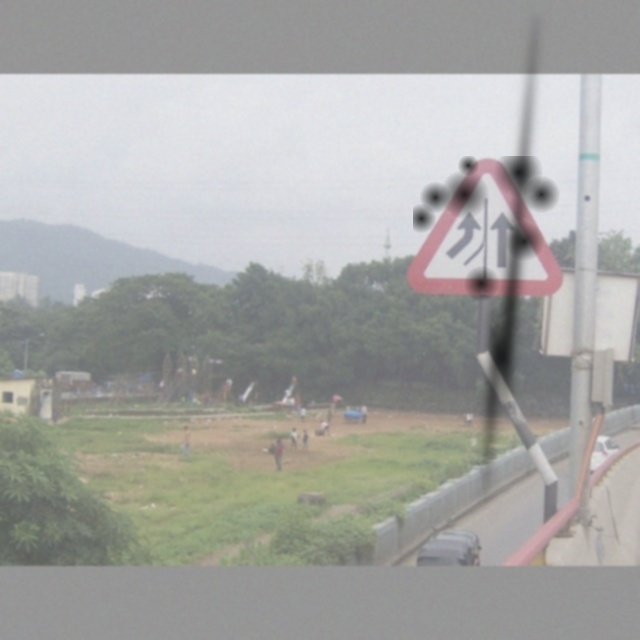Merge_Traffic_Ahead: (413, 156, 565, 303)
